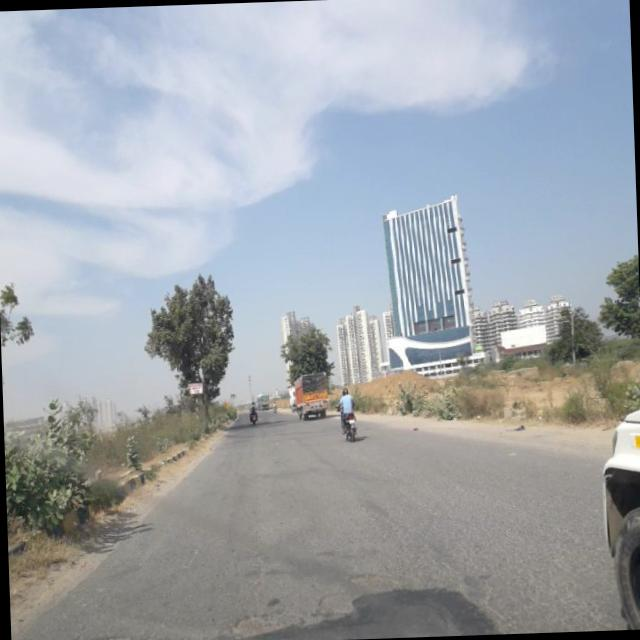pothole: (217, 560, 430, 637)
